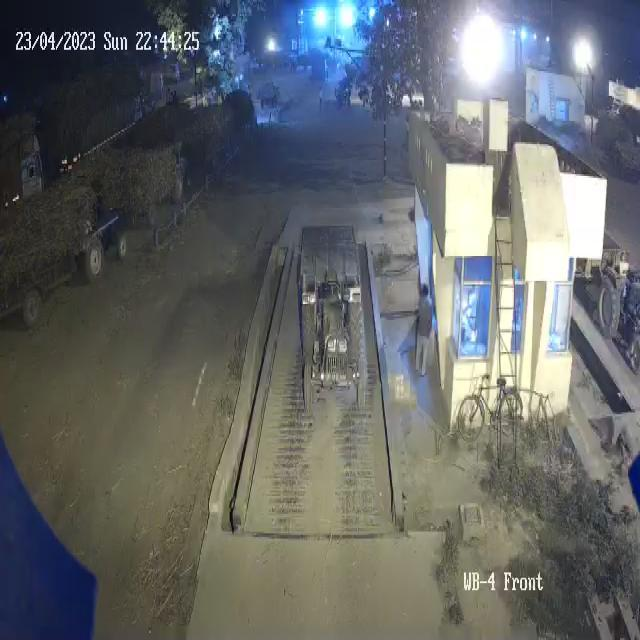Tratores - v5 YOLO V8L 2024-11-13: (296, 284, 373, 426), (87, 193, 128, 283)
